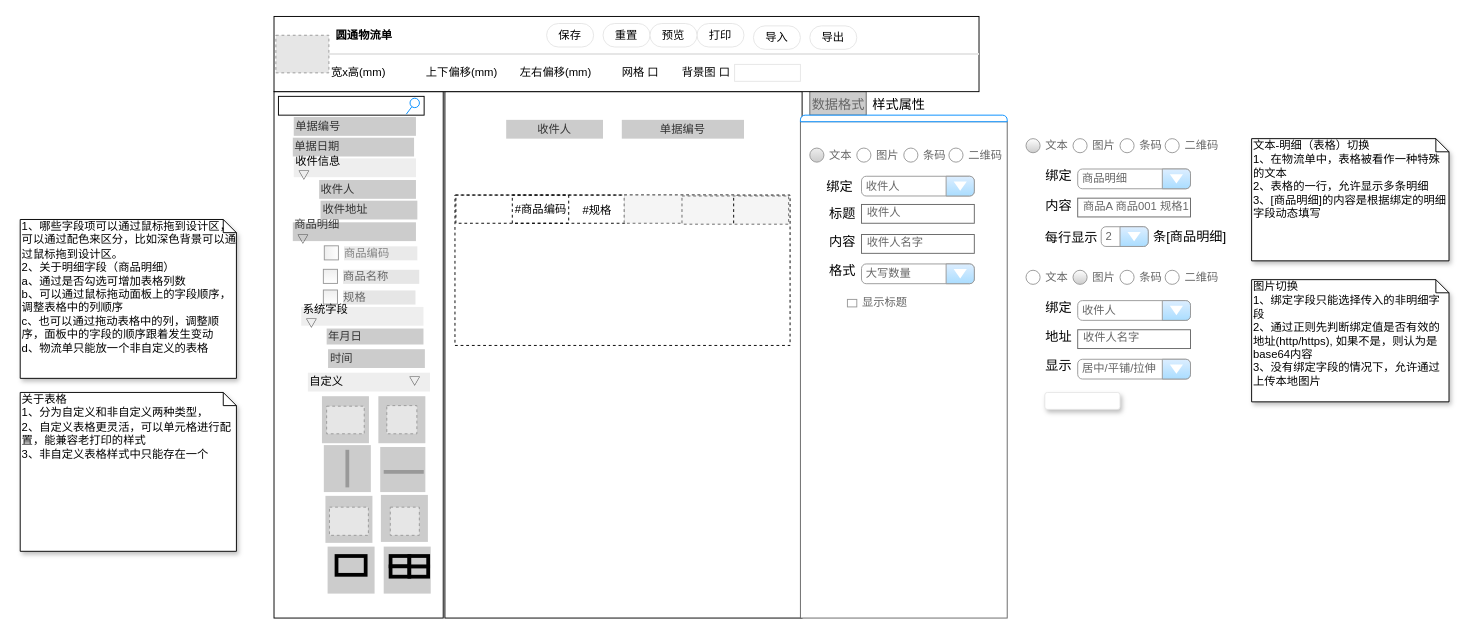
The diagram is 1471 pixels wide and 635 high, and some of its shapes have lost their labels. Grey dashed boxes stand in for pictures. The shapes that lost their labels are listed below. From the top down, each one's centre as x and y in pixels, then its label:
pixel 767 72: 上传背景图
pixel 350 105: 模糊查询
pixel 512 208: #商品名称
pixel 1083 402: 上传本地图片
